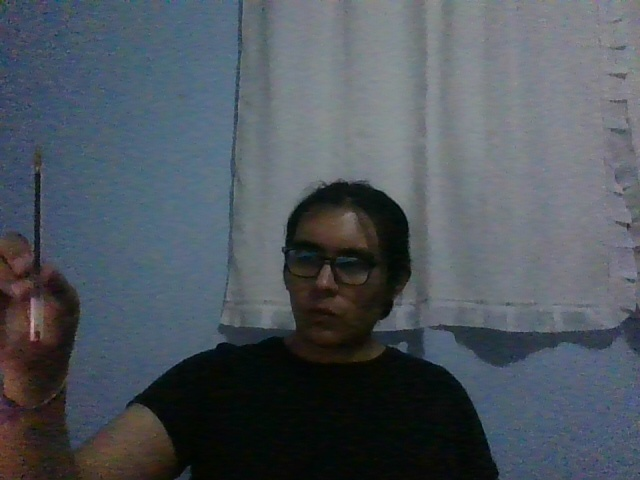pluma: (28, 147, 43, 345)
